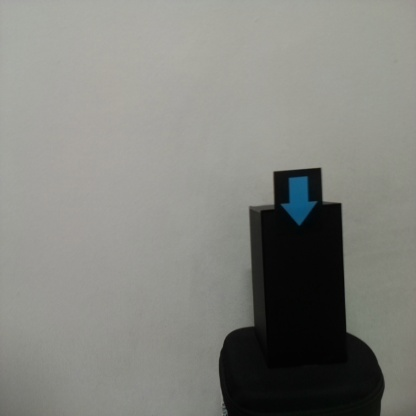id_2: (274, 172, 323, 244)
